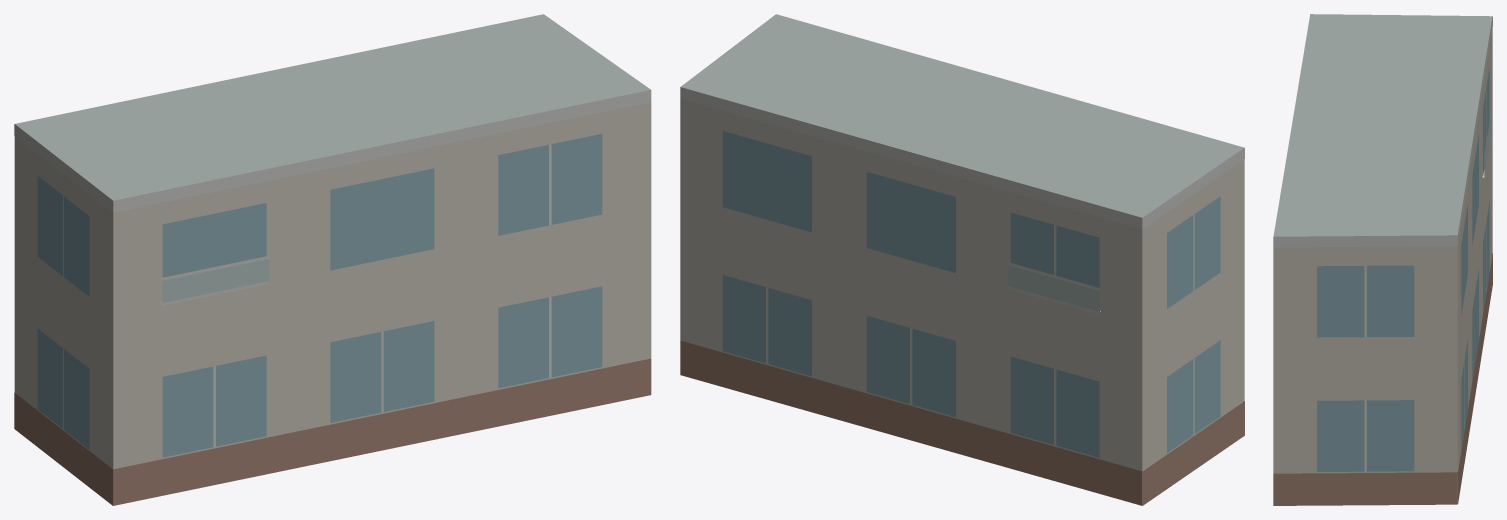
Rendered from survey-upis-32925586.glb.
3 views of the same model, side by side, from view 1: azimuth 30°, elevation 25°; view 2: azimuth 150°, elevation 25°; view 3: azimuth 270°, elevation 25° (orthographic). The views are drawn at different scales.
Parts seen in each view (by area): view 1: survey-upis-32925586.tmp; view 2: survey-upis-32925586.tmp; view 3: survey-upis-32925586.tmp.
Boxes of the visible parts, x1,y1,x2,y2 form: survey-upis-32925586.tmp: (14,14,651,505); survey-upis-32925586.tmp: (680,14,1244,505); survey-upis-32925586.tmp: (1273,14,1492,505).
Bounding box in the file's own units: 10.83 × 6.1 × 4.51.
